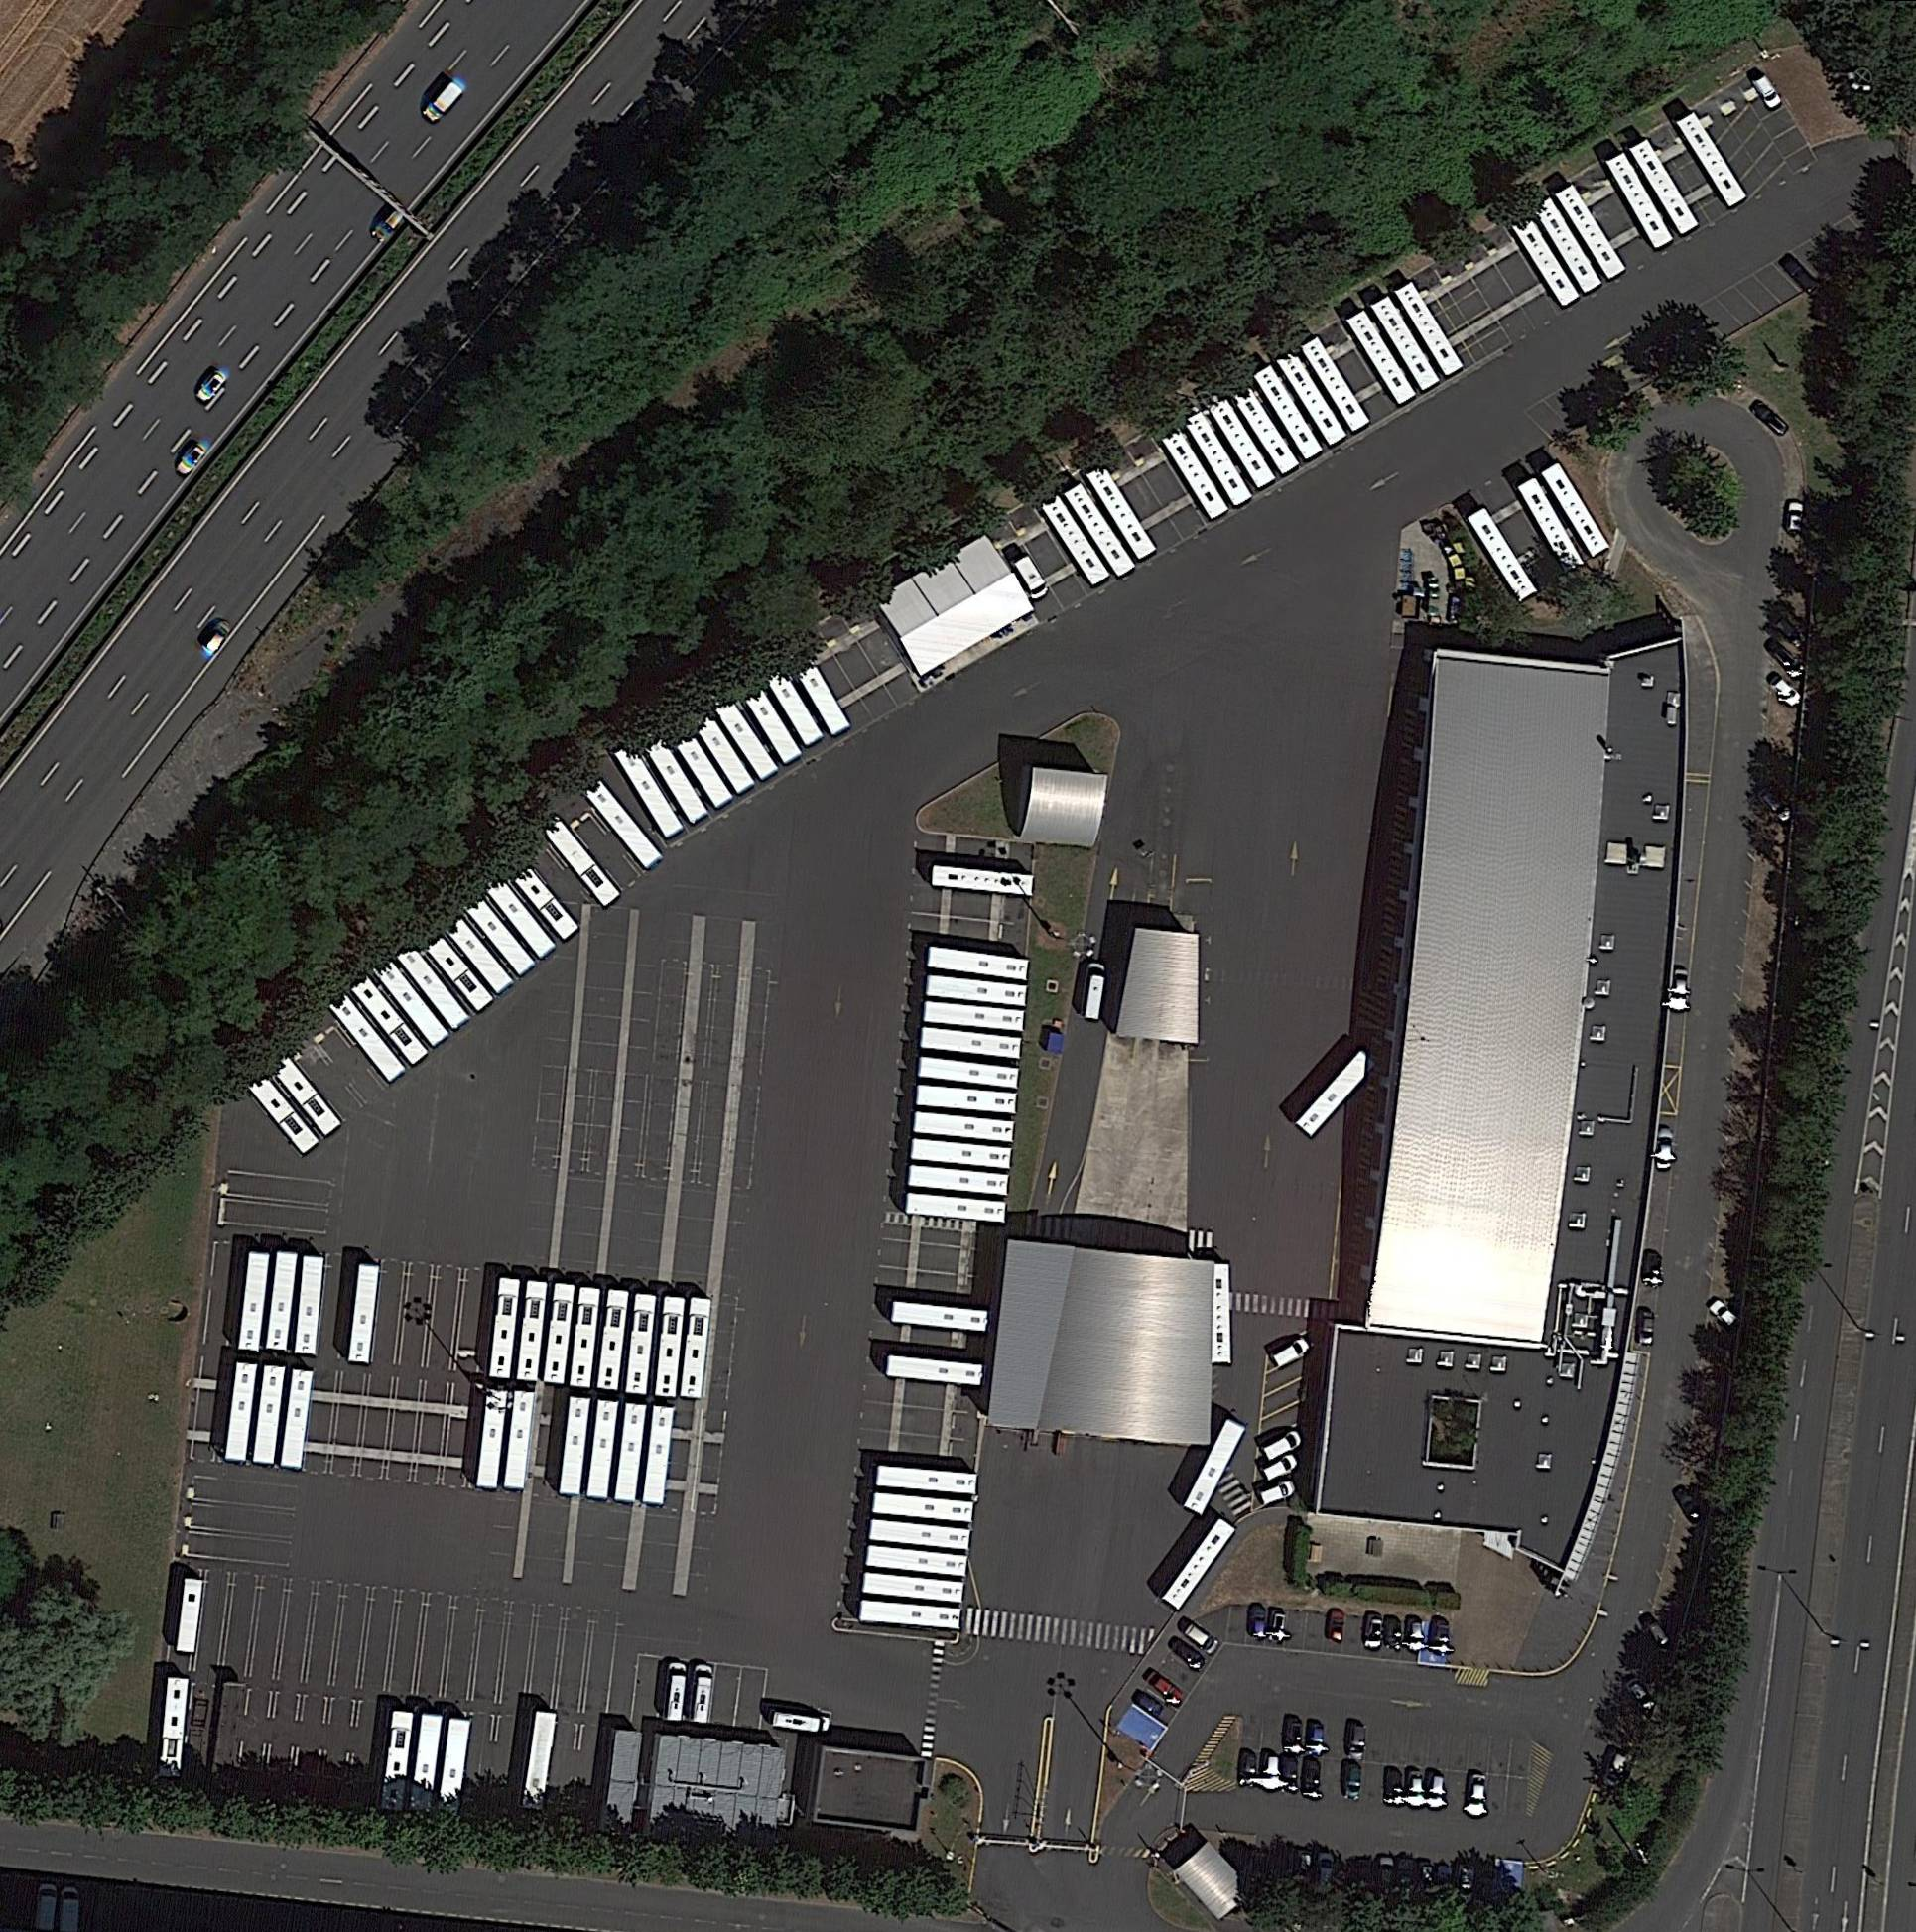large vehicle: (346, 969, 430, 1070), (540, 812, 625, 911), (581, 776, 665, 874), (390, 937, 474, 1034), (635, 721, 712, 826), (368, 951, 451, 1049), (325, 988, 407, 1086), (658, 707, 737, 809), (683, 695, 760, 797), (412, 919, 495, 1014), (612, 739, 688, 842), (456, 883, 537, 979), (1293, 1048, 1377, 1139), (1555, 182, 1630, 284), (433, 904, 514, 998), (1084, 462, 1158, 563), (1300, 333, 1374, 435), (1676, 109, 1749, 211), (502, 848, 581, 942), (1532, 197, 1605, 297), (1467, 505, 1541, 605), (265, 1048, 344, 1141), (1160, 1518, 1239, 1611), (1186, 409, 1258, 511), (1277, 347, 1349, 449), (783, 639, 853, 742), (707, 684, 781, 783), (479, 869, 558, 960), (1372, 293, 1444, 393), (1255, 363, 1326, 463), (244, 1065, 321, 1158), (1065, 483, 1139, 579), (1607, 149, 1676, 253), (733, 670, 805, 769), (1346, 309, 1418, 407), (1511, 214, 1583, 312), (1395, 279, 1465, 379), (1630, 137, 1700, 237), (1541, 460, 1611, 560), (1518, 474, 1586, 574), (1040, 495, 1112, 590), (1183, 1418, 1249, 1518), (760, 653, 826, 751), (1232, 384, 1302, 477), (1209, 395, 1277, 490), (1163, 426, 1230, 523), (481, 1272, 523, 1381), (518, 1707, 560, 1813), (405, 1711, 446, 1816), (926, 944, 1030, 984), (472, 1388, 512, 1492), (858, 1595, 965, 1634), (861, 1567, 967, 1606), (865, 1541, 970, 1579), (872, 1488, 977, 1527), (925, 972, 1028, 1011), (930, 862, 1037, 898), (437, 1716, 475, 1818), (584, 1399, 623, 1500), (377, 1709, 414, 1814), (912, 1107, 1018, 1144), (919, 1025, 1025, 1062), (869, 1514, 974, 1551), (612, 1400, 649, 1504), (679, 1297, 716, 1400), (225, 1362, 261, 1465), (876, 1462, 979, 1499), (568, 1284, 604, 1392), (597, 1286, 632, 1393), (502, 1390, 539, 1492), (279, 1369, 316, 1470), (540, 1283, 577, 1385), (251, 1365, 288, 1467), (905, 1188, 1007, 1225), (921, 998, 1026, 1034), (514, 1277, 549, 1383), (623, 1292, 658, 1397), (884, 1353, 990, 1388), (237, 1251, 274, 1351), (156, 1676, 191, 1779), (918, 1055, 1021, 1090), (911, 1135, 1014, 1170), (558, 1397, 593, 1499), (267, 1249, 302, 1351), (346, 1263, 381, 1365), (909, 1163, 1011, 1199), (654, 1293, 688, 1400), (914, 1083, 1019, 1116), (642, 1404, 676, 1507), (891, 1300, 991, 1332), (293, 1256, 325, 1355), (1205, 1262, 1233, 1365), (174, 1574, 207, 1655)
small vehicle: (418, 72, 468, 130), (1074, 960, 1112, 1025), (1777, 251, 1827, 302), (683, 1664, 718, 1728), (1009, 549, 1051, 602), (1760, 665, 1805, 711), (1762, 633, 1805, 681), (1258, 1423, 1307, 1465), (660, 1662, 693, 1723), (1748, 397, 1793, 440), (767, 1707, 833, 1735), (1163, 1634, 1207, 1676), (1179, 1616, 1225, 1657), (1267, 1332, 1312, 1372), (191, 363, 232, 407), (170, 435, 211, 479), (1144, 1669, 1186, 1709), (198, 616, 237, 658), (1749, 68, 1786, 112), (1256, 1449, 1300, 1486), (1705, 1295, 1744, 1335), (368, 205, 407, 246), (1256, 1478, 1300, 1509), (1130, 1686, 1169, 1721), (1428, 1613, 1456, 1658), (1297, 1755, 1325, 1799), (1465, 1771, 1490, 1820), (1641, 1248, 1667, 1292), (1260, 1748, 1284, 1793), (1667, 965, 1690, 1014), (1344, 1714, 1369, 1760), (1233, 1746, 1260, 1788), (1383, 1764, 1405, 1807), (1267, 1604, 1291, 1644), (1362, 1609, 1384, 1651), (1281, 1751, 1304, 1793), (1426, 1767, 1448, 1811), (1339, 1760, 1362, 1800), (1283, 1713, 1305, 1753), (1304, 1718, 1328, 1755), (1635, 1306, 1656, 1348), (1784, 500, 1807, 539), (1655, 1130, 1676, 1170), (1325, 1607, 1348, 1644), (1405, 1767, 1425, 1809), (1248, 1604, 1269, 1641), (1384, 1613, 1404, 1651), (1405, 1613, 1423, 1655)
